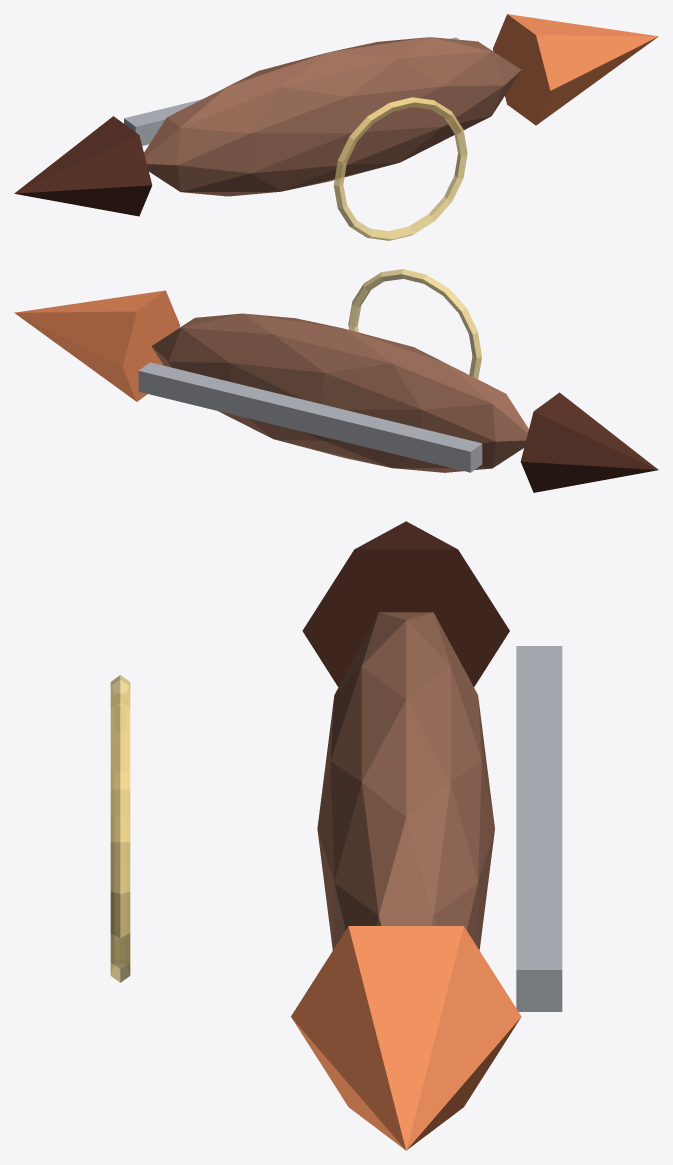
Rendered from 05_skyship_hull.glb.
The picture shows the model from 3 angles, top to bottom: view 1: azimuth 30°, elevation 25°; view 2: azimuth 150°, elevation 25°; view 3: azimuth 270°, elevation 25°; orthographic projection. The views are drawn at different scales.
Visible parts, largest first — view 1: hull_low_poly, bow_upgrade, stern_fin, size_class_ring, keel_plate; view 2: hull_low_poly, keel_plate, bow_upgrade, stern_fin, size_class_ring; view 3: hull_low_poly, bow_upgrade, keel_plate, stern_fin, size_class_ring.
Boxes of the visible parts, left/top/right/bottom form: hull_low_poly: left=144, top=37, right=521, bottom=196; bow_upgrade: left=493, top=14, right=658, bottom=125; stern_fin: left=14, top=116, right=152, bottom=216; size_class_ring: left=333, top=97, right=467, bottom=240; keel_plate: left=124, top=37, right=458, bottom=145; hull_low_poly: left=151, top=313, right=528, bottom=472; keel_plate: left=138, top=362, right=482, bottom=472; bow_upgrade: left=14, top=290, right=179, bottom=401; stern_fin: left=520, top=392, right=658, bottom=492; size_class_ring: left=348, top=269, right=481, bottom=379; hull_low_poly: left=317, top=612, right=494, bottom=950; bow_upgrade: left=291, top=926, right=521, bottom=1150; keel_plate: left=516, top=646, right=562, bottom=1011; stern_fin: left=302, top=521, right=509, bottom=686; size_class_ring: left=110, top=675, right=130, bottom=982.
Size of the model in its own units: 3.36 by 0.6862 by 1.02.
